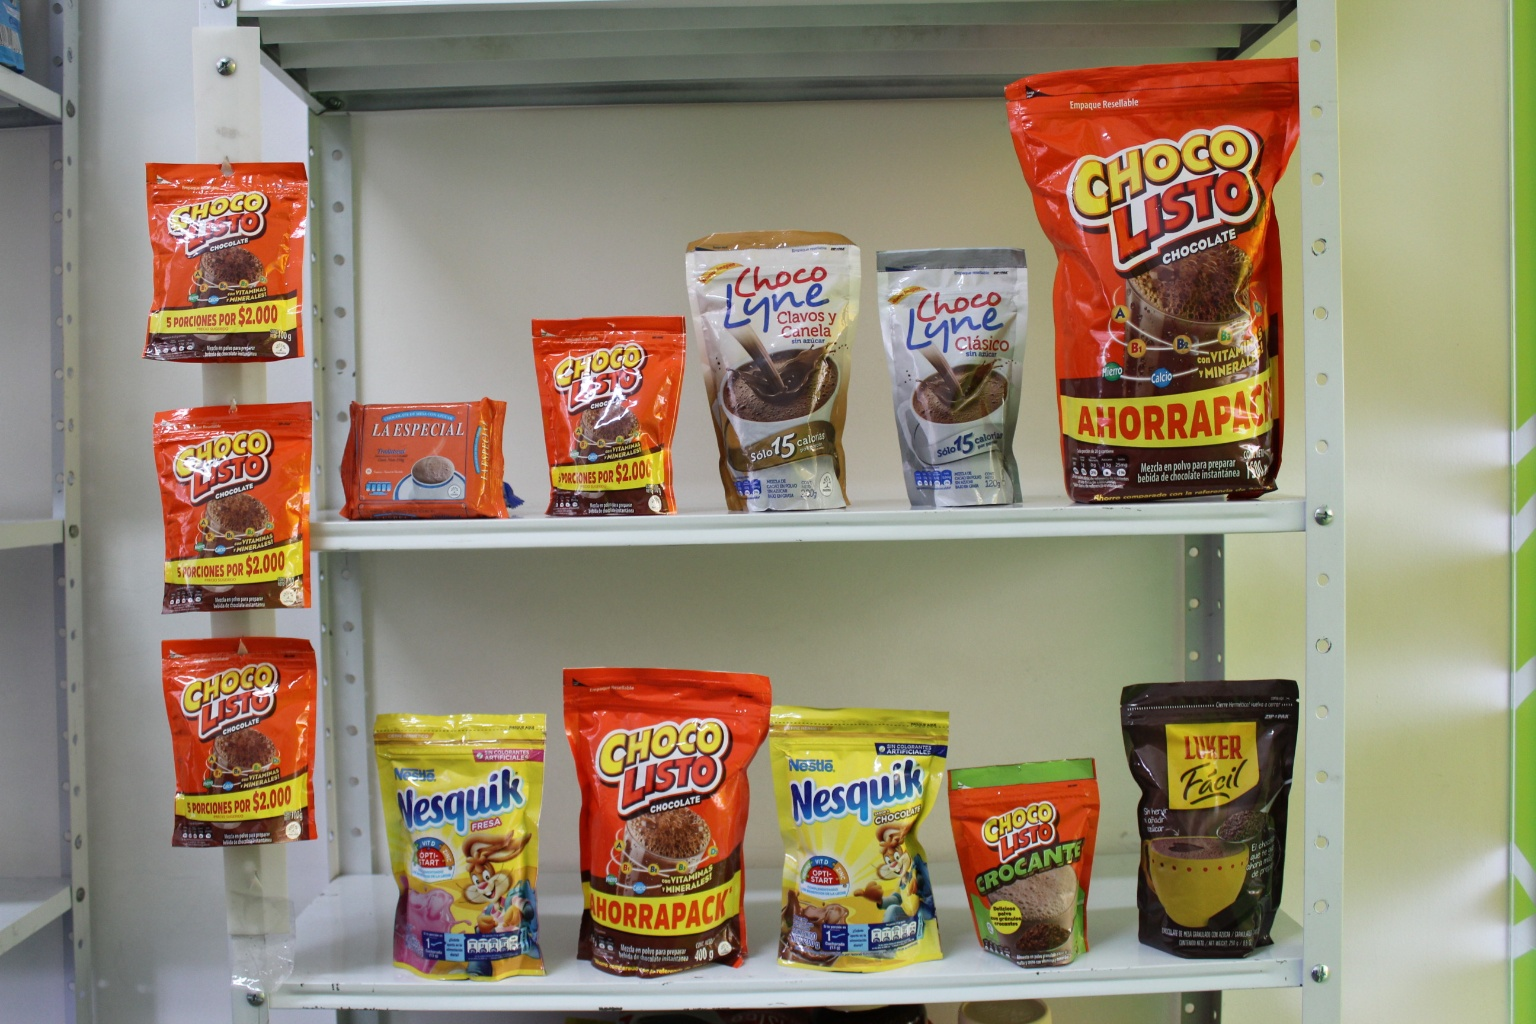COL0170102DYP10000: (945, 755, 1109, 971)
COL0170103DYP1,500: (999, 55, 1317, 501)
COL0170103DYP10000: (157, 631, 341, 859)
COL0170103DYP40000: (553, 647, 775, 982)
COL0170303DYP20000: (775, 704, 959, 976)
COL0170305DYP20000: (373, 711, 573, 987)
